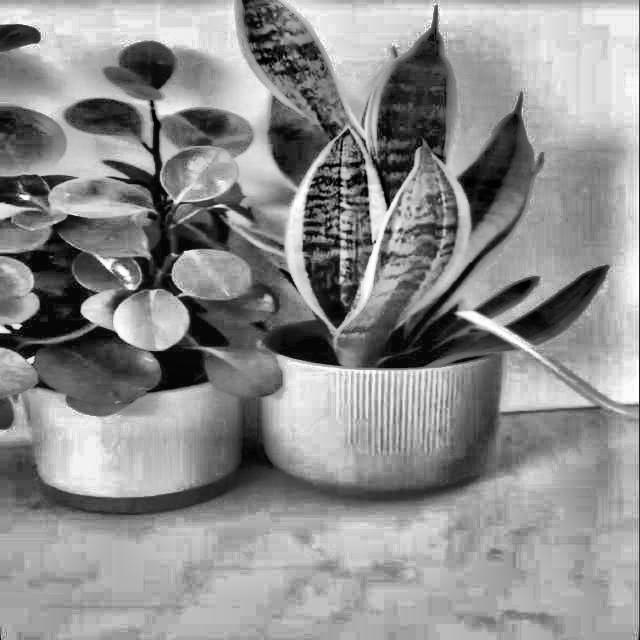plants: (205, 0, 614, 377)
